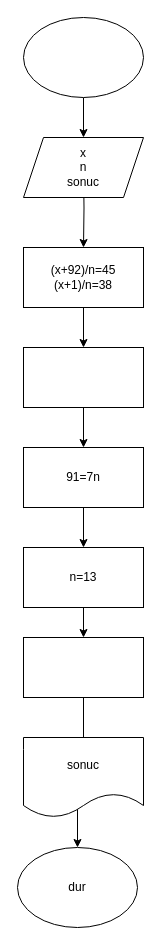
This 161x945 diagram has some shape labels left out. Each missing label, with the centre of its shape:
"başla" belongs at (x=83, y=57).
"n+1=sonuc" belongs at (x=83, y=667).
"x+92=45n -(x+1=38n)" belongs at (x=83, y=377).
